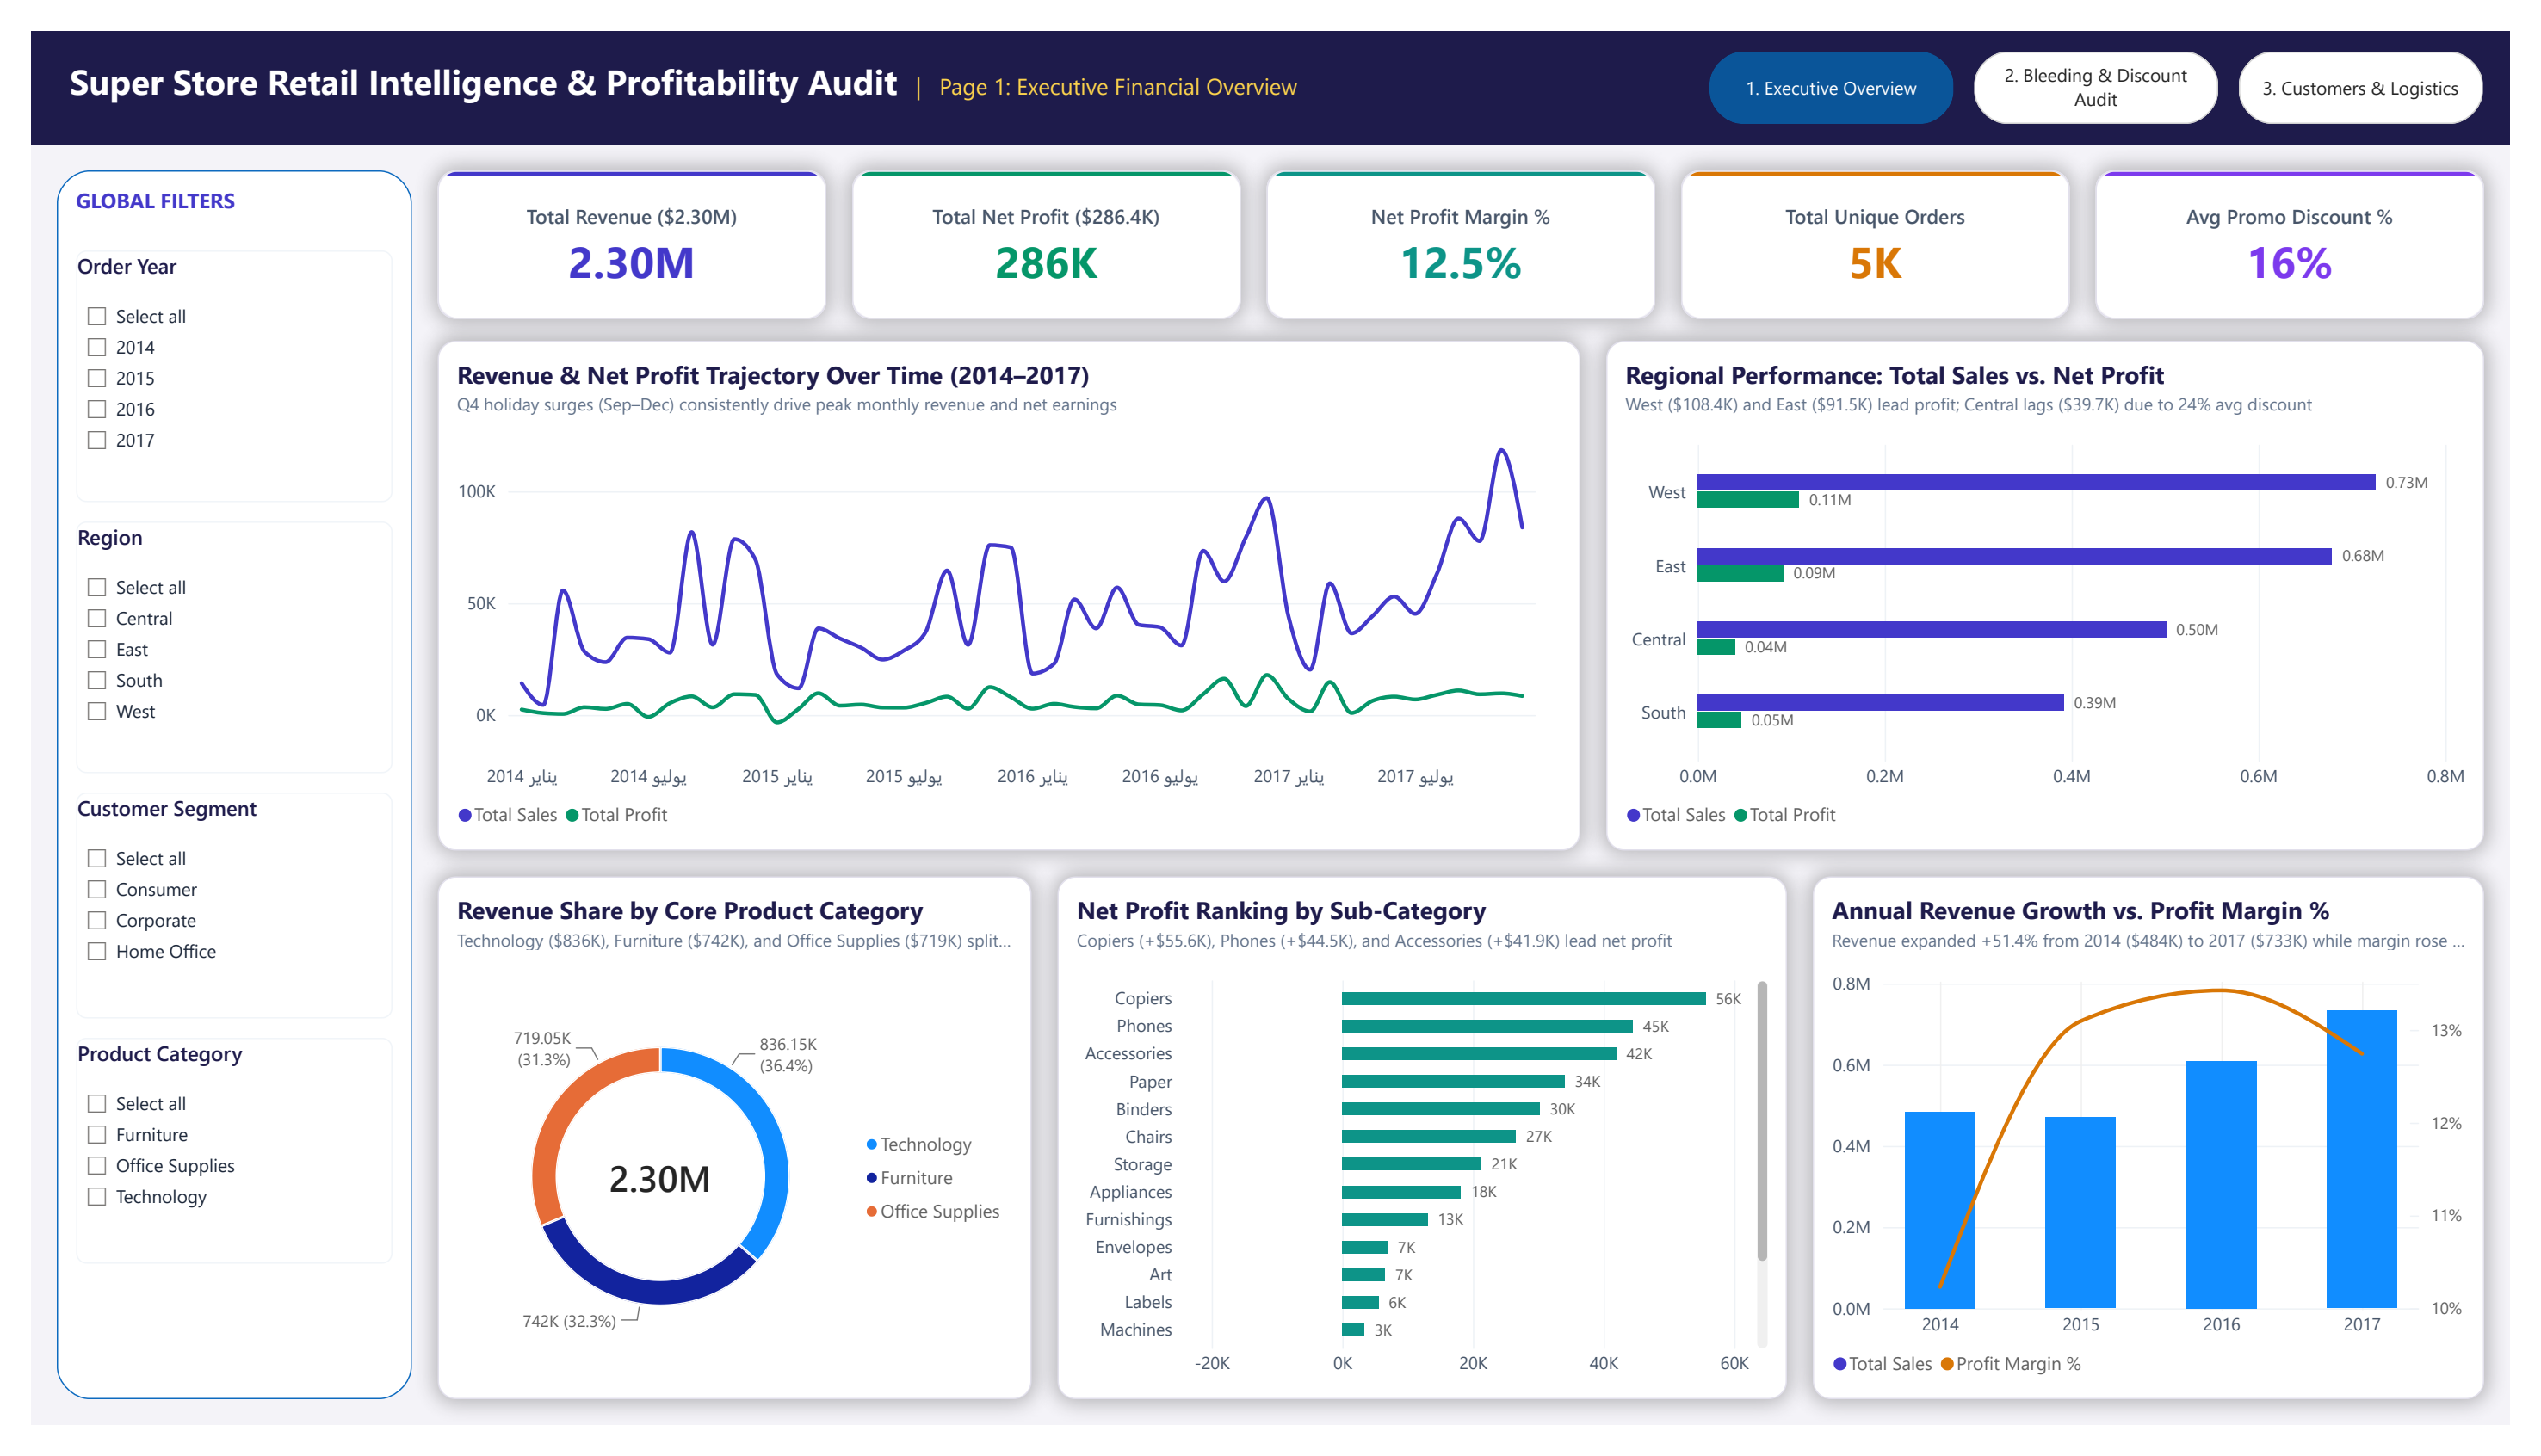

The page's visual inventory and layout, read from the dashboard file:
{"tool":"powerbi","page":{"name":"1. Executive Overview","canvas":[1920,1080],"ordinal":0},"visuals":[{"type":"shape","box":[0,0,1920,88],"z":0},{"type":"shape","box":[20,108,275,952],"z":1000},{"type":"textbox","box":[20,6,1260,78],"z":2000},{"type":"textbox","box":[35,120,245,42],"z":2500},{"type":"lineChart","title":"Revenue & Net Profit Trajectory Over Time (2014–2017)","fields":{"Category":["Clean_Super_Store.Order Date.Variation.Date Hierarchy.Year","Clean_Super_Store.Order Date.Variation.Date Hierarchy.Month"],"Y":["Measures_.Total Sales","Measures_.Total Profit"]},"box":[315,240,885,395],"z":4000},{"type":"clusteredBarChart","title":"Regional Performance: Total Sales vs. Net Profit","fields":{"Category":["Clean_Super_Store.Region"],"Y":["Measures_.Total Sales","Measures_.Total Profit"]},"box":[1220,240,680,395],"z":4500},{"type":"donutChart","title":"Revenue Share by Core Product Category","fields":{"Category":["Clean_Super_Store.Category"],"Y":["Measures_.Total Sales"]},"box":[315,655,460,405],"z":5000},{"type":"clusteredBarChart","title":"Net Profit Ranking by Sub-Category","fields":{"Category":["Clean_Super_Store.Sub-Category"],"Y":["Measures_.Total Profit"]},"box":[795,655,565,405],"z":5200},{"type":"lineClusteredColumnComboChart","title":"Annual Revenue Growth vs. Profit Margin %","fields":{"Category":["Clean_Super_Store.Order Year"],"Y":["Measures_.Total Sales"],"Y2":["Measures_.Profit Margin"]},"box":[1380,655,520,405],"z":5400},{"type":"cardVisual","title":"Total Revenue ($2.30M)","fields":{"Data":["Measures_.Total Sales"]},"box":[315,108,301,115],"z":6000},{"type":"cardVisual","title":"Total Net Profit ($286.4K)","fields":{"Data":["Measures_.Total Profit"]},"box":[636,108,301,115],"z":6500},{"type":"cardVisual","title":"Net Profit Margin %","fields":{"Data":["Measures_.Profit Margin"]},"box":[957,108,301,115],"z":7000},{"type":"cardVisual","title":"Total Unique Orders","fields":{"Data":["Measures_.Total Orders"]},"box":[1278,108,301,115],"z":7500},{"type":"cardVisual","title":"Avg Promo Discount %","fields":{"Data":["Measures_.Average Discount"]},"box":[1599,108,301,115],"z":8000},{"type":"slicer","title":"Order Year","fields":{"Values":["Clean_Super_Store.Order Year"]},"box":[35,170,245,195],"z":11000},{"type":"slicer","title":"Region","fields":{"Values":["Clean_Super_Store.Region"]},"box":[35,380,245,195],"z":11100},{"type":"slicer","title":"Customer Segment","fields":{"Values":["Clean_Super_Store.Segment"]},"box":[35,590,245,175],"z":11200},{"type":"slicer","title":"Product Category","fields":{"Values":["Clean_Super_Store.Category"]},"box":[35,780,245,175],"z":11300},{"type":"pageNavigator","box":[1300,16,600,56],"z":15000}]}

Visuals, with their boxes in screenshot pixels (x1, y1, x2, y2), scaled from the page's 1920x1080 canvas onto the 2541x1456 screenshot:
shape: <region>0, 0, 2540, 119</region>
shape: <region>27, 145, 391, 1429</region>
textbox: <region>27, 8, 1694, 114</region>
textbox: <region>46, 162, 370, 219</region>
"Revenue & Net Profit Trajectory Over Time (2014–2017)" lineChart: <region>417, 324, 1588, 856</region>
"Regional Performance: Total Sales vs. Net Profit" clusteredBarChart: <region>1615, 324, 2514, 856</region>
"Revenue Share by Core Product Category" donutChart: <region>417, 883, 1026, 1429</region>
"Net Profit Ranking by Sub-Category" clusteredBarChart: <region>1052, 883, 1800, 1429</region>
"Annual Revenue Growth vs. Profit Margin %" lineClusteredColumnComboChart: <region>1827, 883, 2514, 1429</region>
"Total Revenue ($2.30M)" cardVisual: <region>417, 145, 815, 300</region>
"Total Net Profit ($286.4K)" cardVisual: <region>842, 145, 1240, 300</region>
"Net Profit Margin %" cardVisual: <region>1266, 145, 1665, 300</region>
"Total Unique Orders" cardVisual: <region>1691, 145, 2090, 300</region>
"Avg Promo Discount %" cardVisual: <region>2116, 145, 2514, 300</region>
"Order Year" slicer: <region>46, 229, 370, 492</region>
"Region" slicer: <region>46, 512, 370, 775</region>
"Customer Segment" slicer: <region>46, 795, 370, 1031</region>
"Product Category" slicer: <region>46, 1052, 370, 1287</region>
pageNavigator: <region>1721, 22, 2514, 97</region>
